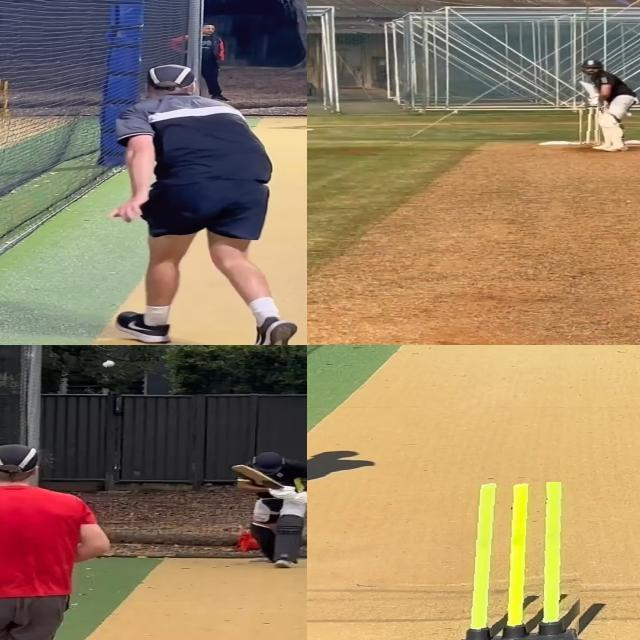Cricket ball: (101, 360, 116, 369)
Stumps: (460, 482, 588, 640), (580, 106, 601, 147)
